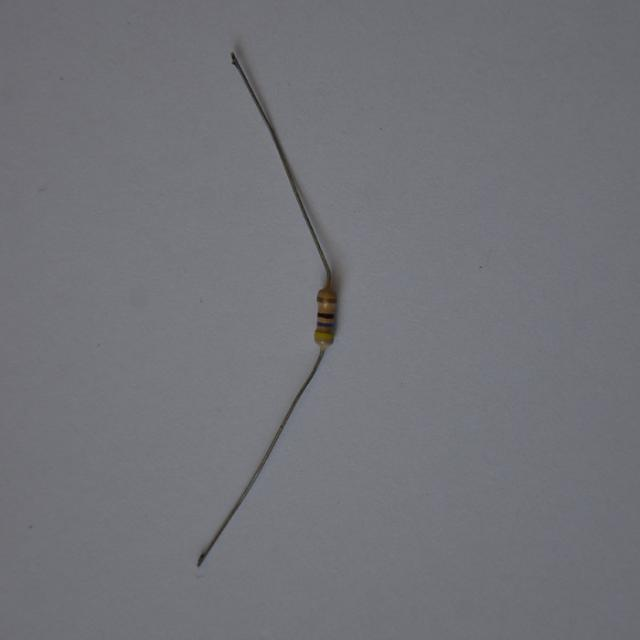brown: (318, 312, 334, 318)
gold: (317, 295, 335, 301)
resistor: (303, 288, 342, 353)
violet: (317, 323, 333, 329)
yellow: (315, 330, 332, 337)
